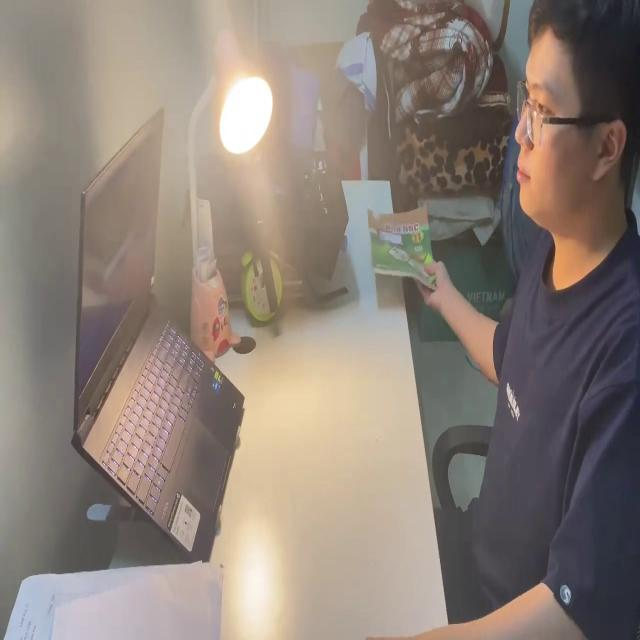book: (11, 557, 226, 640), (364, 196, 436, 294)
laptop: (64, 99, 245, 561)
student: (410, 0, 640, 640)
